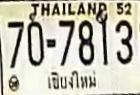0: (26, 21, 44, 66)
1: (97, 20, 109, 67)
3: (115, 19, 132, 64)
7: (7, 20, 23, 67), (58, 20, 74, 64)
8: (78, 20, 94, 64)
CMI: (41, 69, 99, 90)
